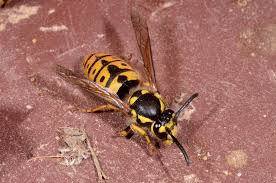chax: (47, 4, 207, 165)
